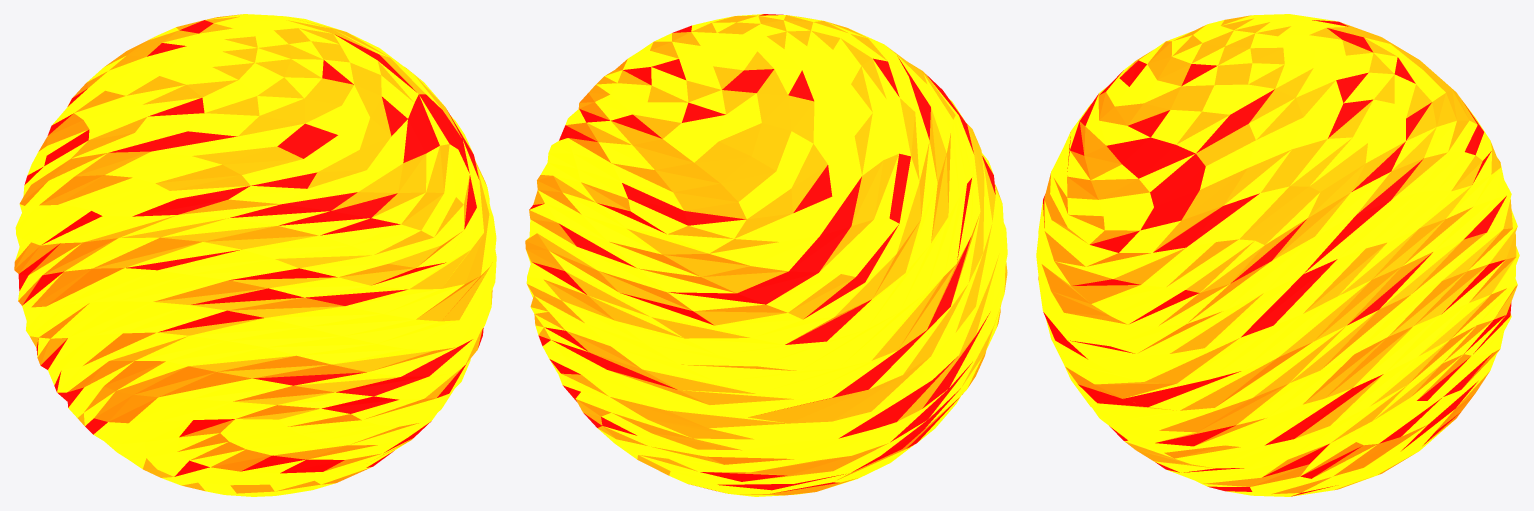
Rendered from Sun2.glb.
3 renders of one model, left to right at view 1: azimuth 30°, elevation 25°; view 2: azimuth 150°, elevation 25°; view 3: azimuth 270°, elevation 25°, orthographic.
Visible parts, largest first — view 1: Sun2; view 2: Sun2; view 3: Sun2.
Boxes of the visible parts, x1,y1,x2,y2 form: Sun2: [14, 14, 496, 496]; Sun2: [525, 14, 1007, 496]; Sun2: [1036, 14, 1519, 496].
Size of the model in its own units: 10 by 10 by 10.
